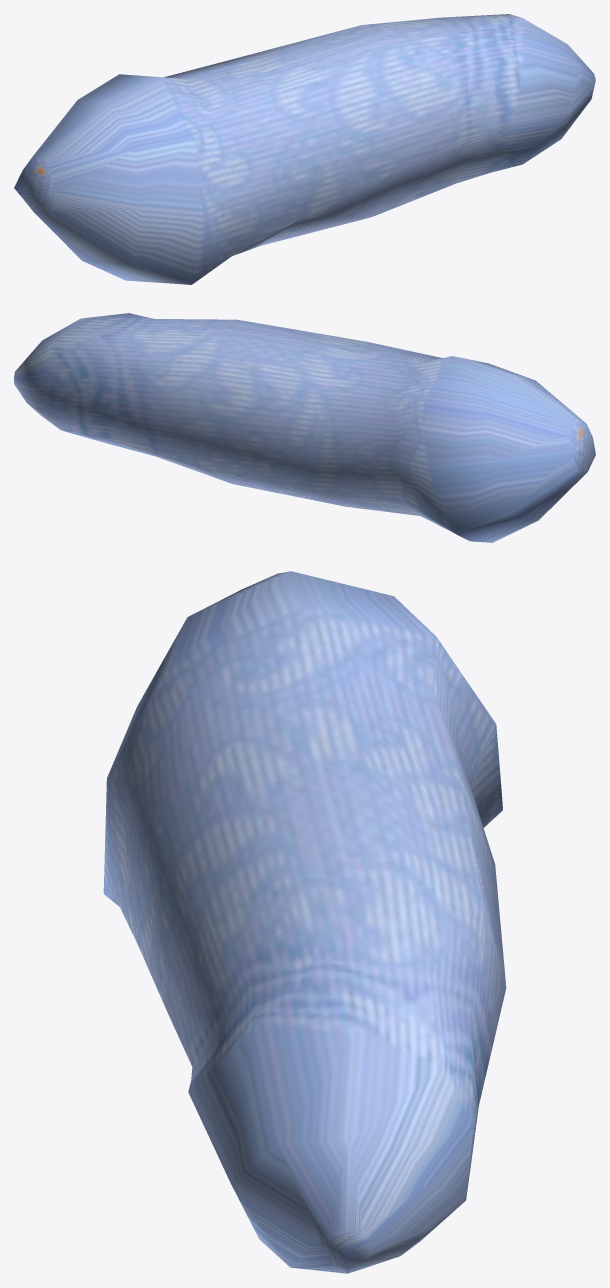
The model's file is RightArm1.dae.
3 renders of one model, top to bottom at view 1: azimuth 30°, elevation 25°; view 2: azimuth 150°, elevation 25°; view 3: azimuth 270°, elevation 25°, orthographic. The views are drawn at different scales.
Parts seen in each view (by area): view 1: RightArm1; view 2: RightArm1; view 3: RightArm1.
Boxes of the visible parts, box(x1,y1,x2,y2) form: RightArm1: box(14, 14, 595, 284); RightArm1: box(14, 313, 595, 542); RightArm1: box(103, 571, 506, 1273).
Bounding box in the file's own units: 0.3081 × 0.0968 × 0.0958.
1 material, 1 textured.
